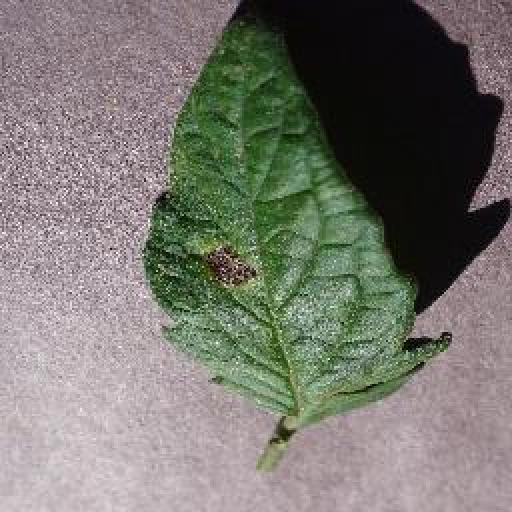disease_tomato: (142, 12, 456, 431)
